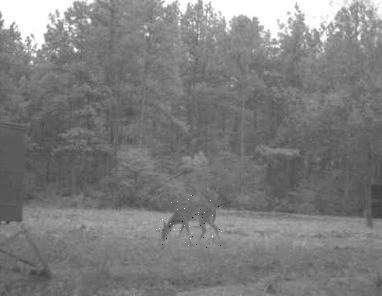Deer: (155, 195, 223, 248)
